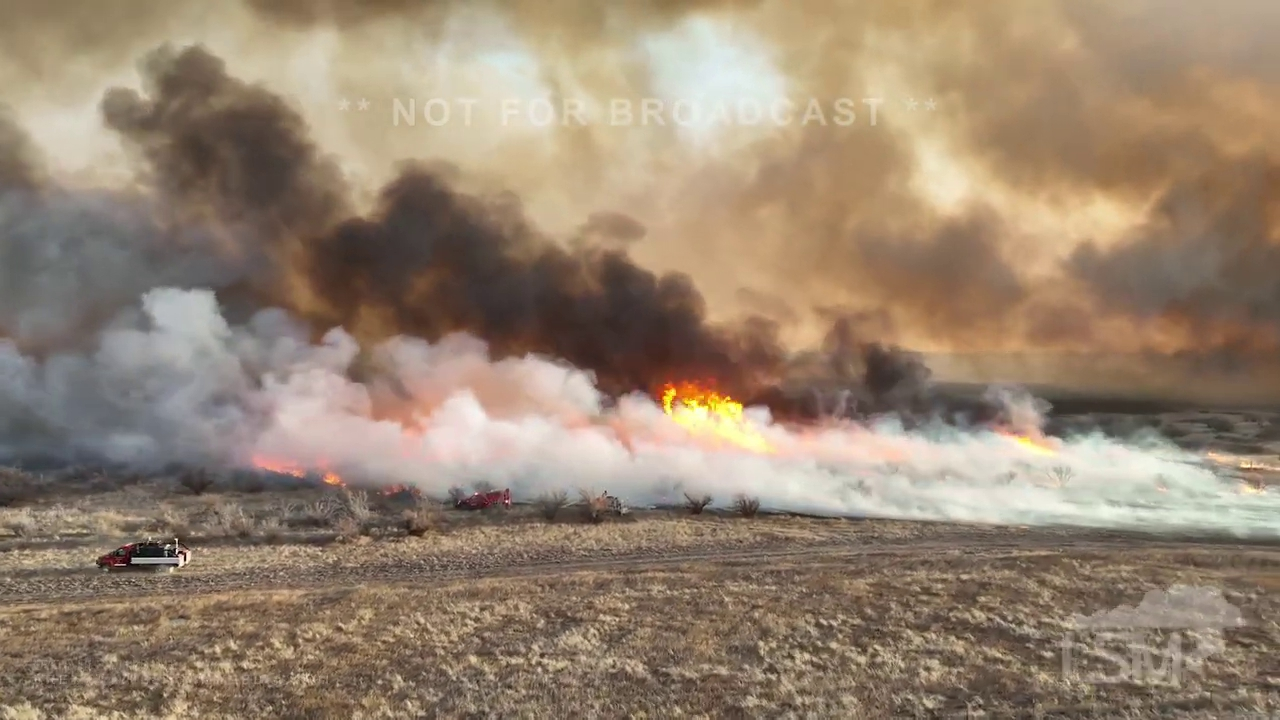forest_fire: (660, 381, 774, 452), (996, 430, 1055, 454), (255, 458, 307, 477), (313, 466, 345, 486)
